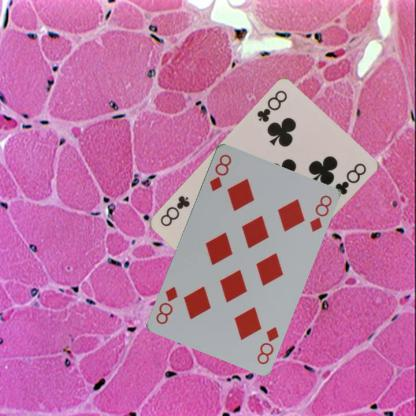8c: (254, 88, 289, 124)
8d: (206, 151, 233, 192), (254, 324, 280, 365)
